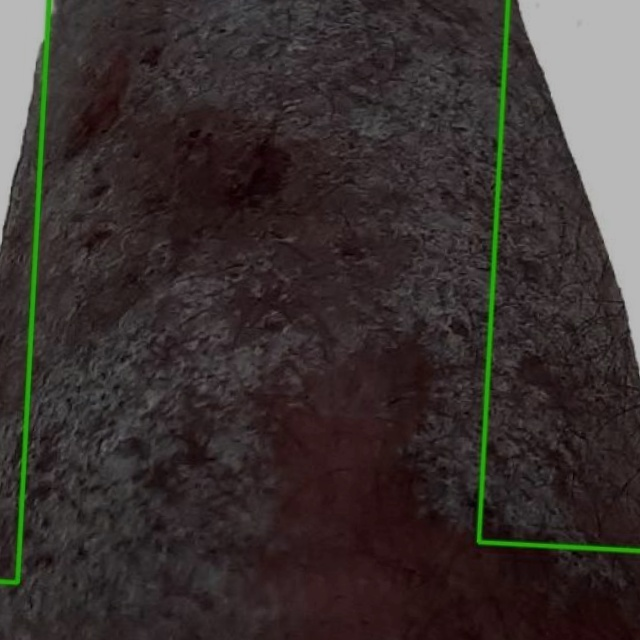Contact Dermatitis: (478, 0, 639, 551)
